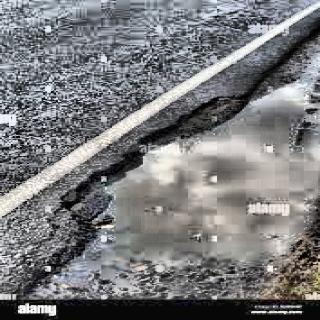pothole: (13, 0, 320, 300)
